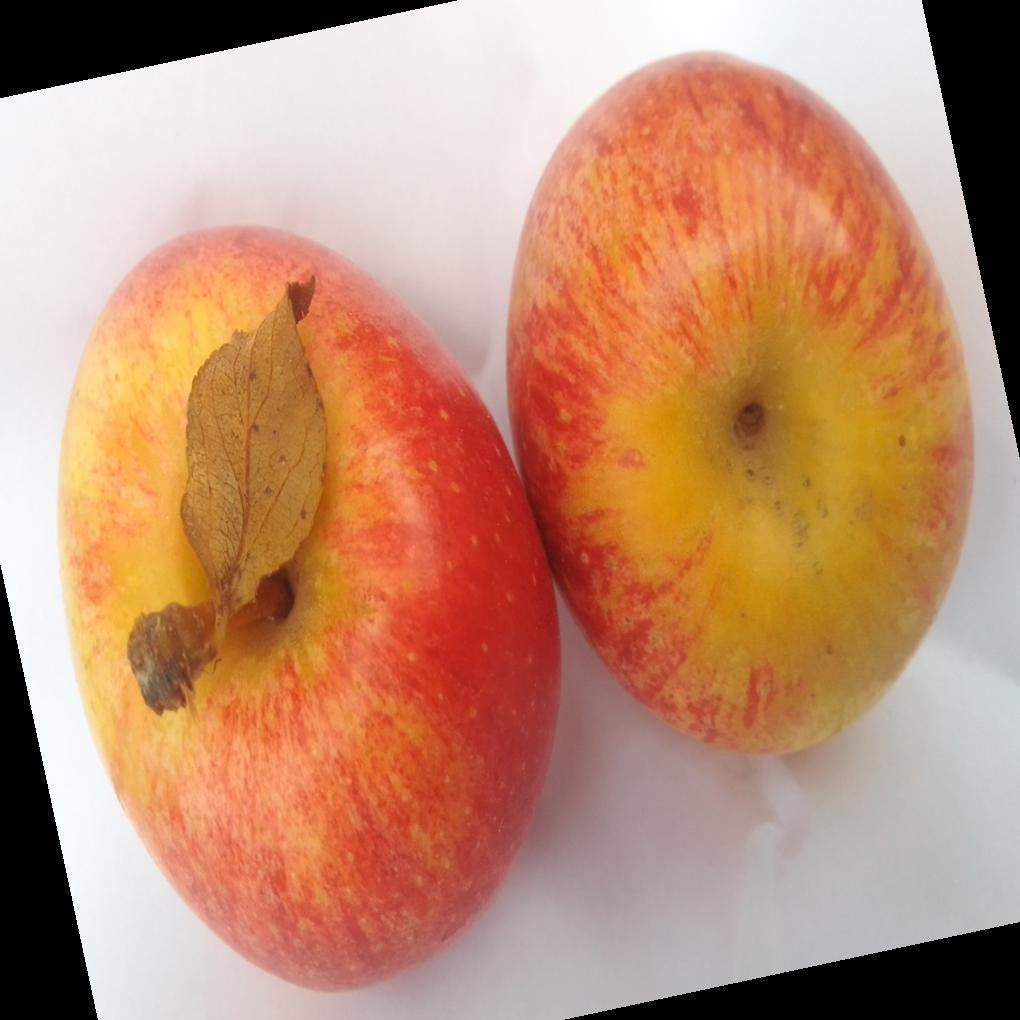FreshGuava: (54, 51, 981, 998)
